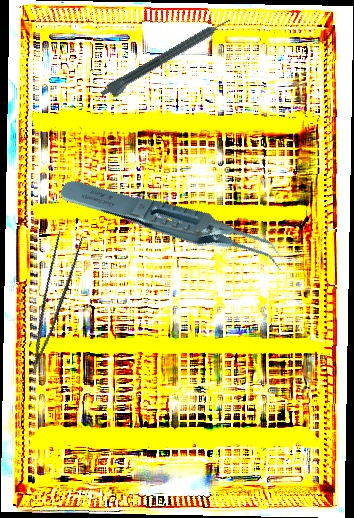Handpiece: (98, 15, 236, 104)
Tissue Forceps: (56, 136, 291, 316), (8, 227, 89, 374)
